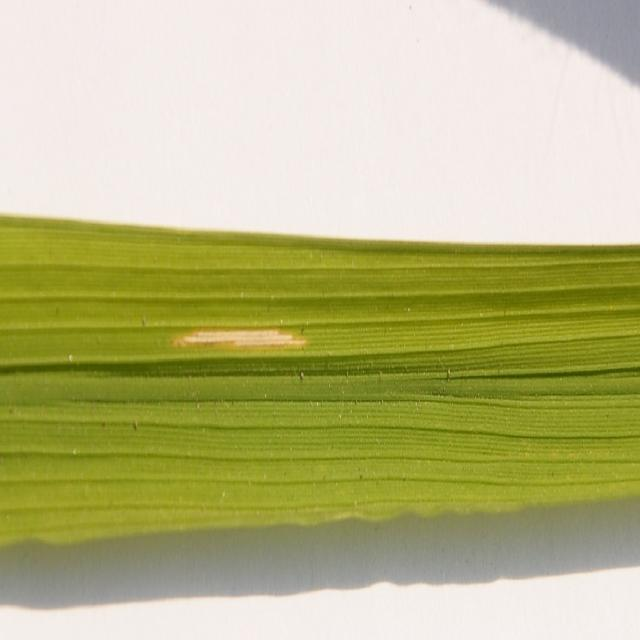Unhealthy: (171, 329, 307, 350)
